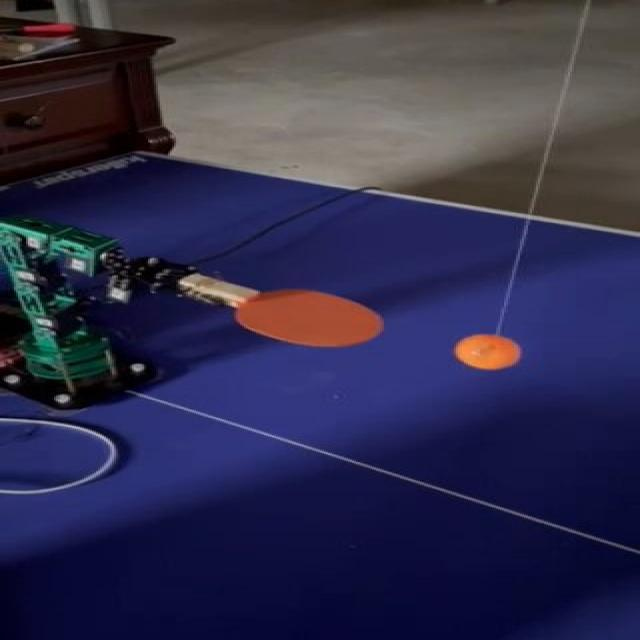ping-pong-ball: (456, 334, 520, 368)
